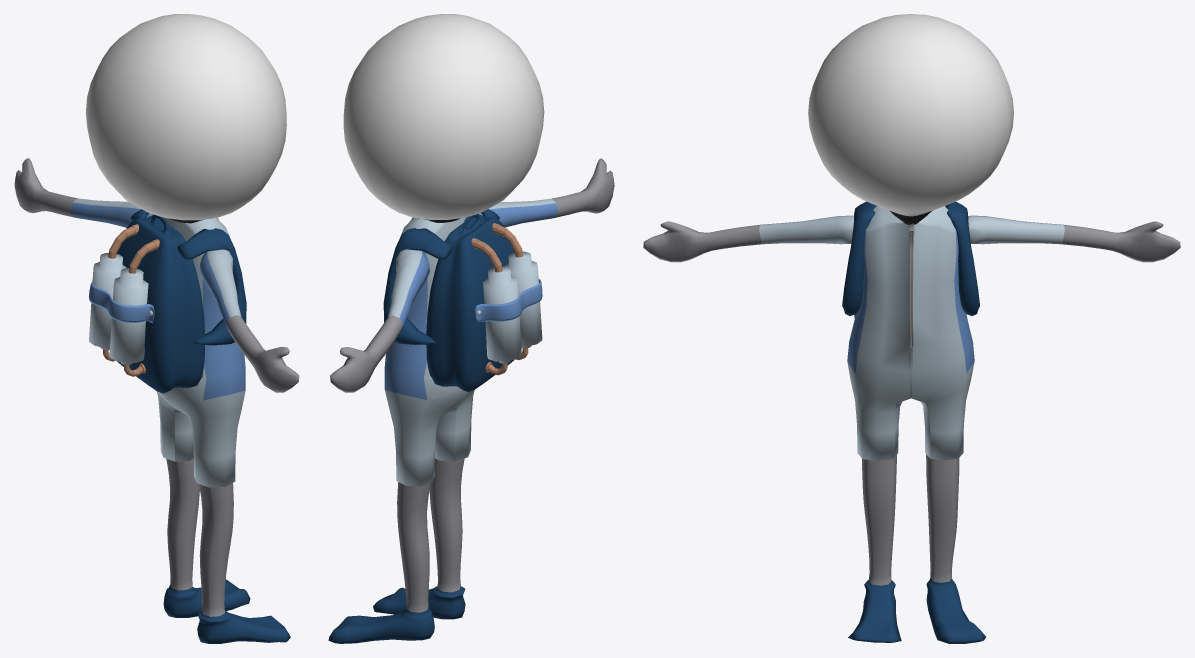
Rendered from layne 7.fbx.
The picture shows the model from 3 angles, left to right: view 1: azimuth 30°, elevation 25°; view 2: azimuth 150°, elevation 25°; view 3: azimuth 270°, elevation 25°; orthographic projection. The views are drawn at different scales.
Visible parts, largest first — view 1: Sphere, Cylinder.002, body, body.001, arm1, arm1.001; view 2: Sphere, Cylinder.002, body, body.001, arm1.001, arm1; view 3: Sphere, body.001, body, arm1.001, arm1, Cylinder.002.
Boxes of the visible parts, bbox=[...] form: Sphere: bbox=[85, 14, 286, 223]; Cylinder.002: bbox=[89, 209, 246, 393]; body: bbox=[163, 458, 290, 643]; body.001: bbox=[156, 217, 245, 487]; arm1: bbox=[199, 249, 299, 392]; arm1.001: bbox=[14, 158, 152, 227]; Sphere: bbox=[343, 14, 544, 222]; Cylinder.002: bbox=[383, 209, 542, 391]; body: bbox=[328, 458, 465, 643]; body.001: bbox=[384, 217, 474, 486]; arm1.001: bbox=[330, 249, 429, 392]; arm1: bbox=[479, 158, 614, 227]; Sphere: bbox=[808, 14, 1013, 224]; body.001: bbox=[847, 206, 974, 461]; body: bbox=[848, 454, 985, 643]; arm1.001: bbox=[968, 215, 1180, 262]; arm1: bbox=[643, 215, 853, 262]; Cylinder.002: bbox=[842, 201, 979, 317].
Size of the model in its own units: 305 by 1043 by 865.
